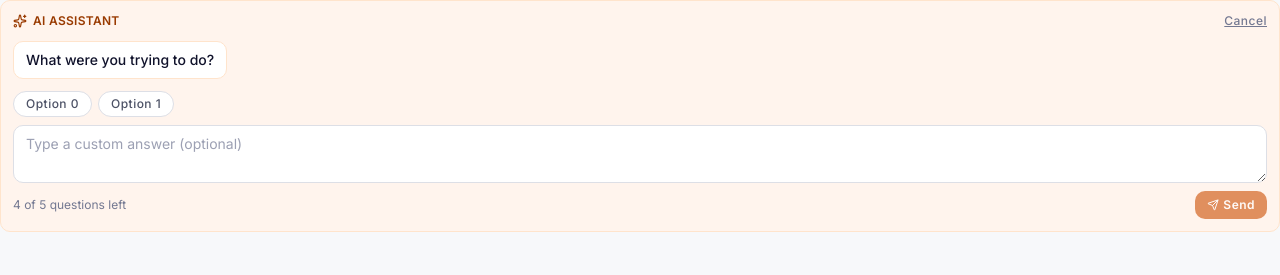
Test case: <FeedbackAssistChat /> › sends the user's selected option and renders the next question
Click the button "Option 0".
click(52, 104)  # box [13,91,92,117]
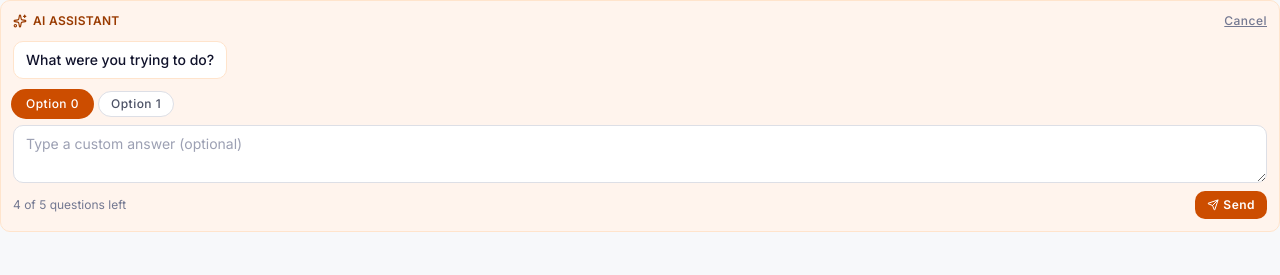
Click the button "Send".
click(1231, 205)  # box [1195,191,1267,219]
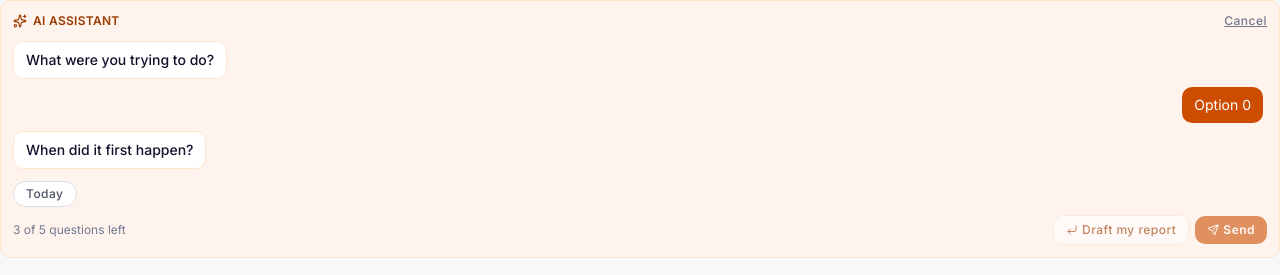
Check: the text "When did it first happen?" is shown, box [26,140,194,160]
